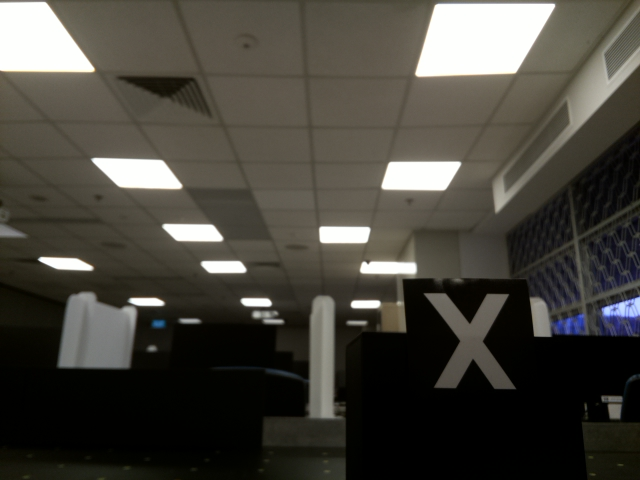x: (422, 289, 523, 398)
